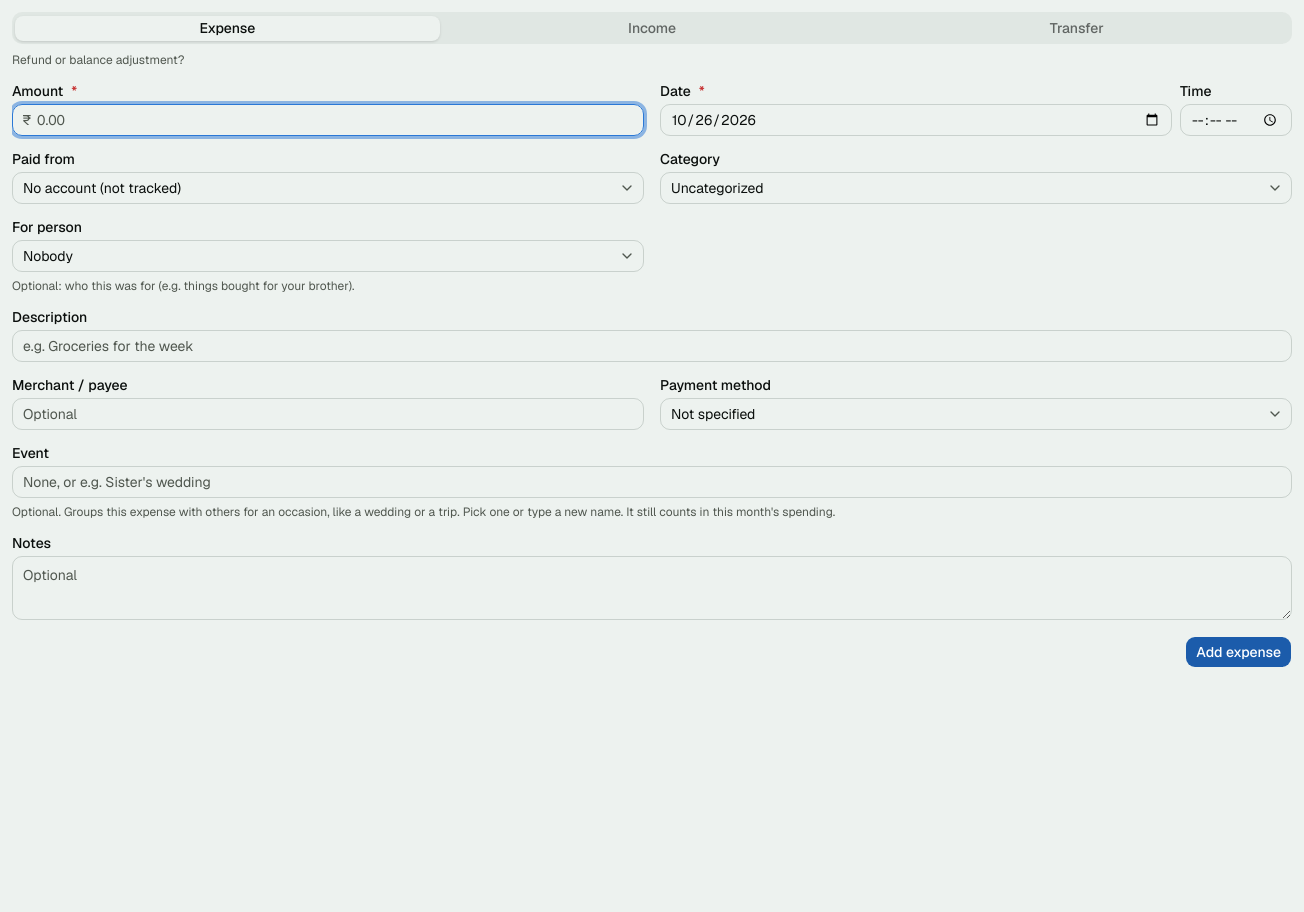
Test: TransactionForm › maps server field errors onto the form
Type "999" into the field labelled "Amount *" at point(328, 120), box [12,104,644,136]
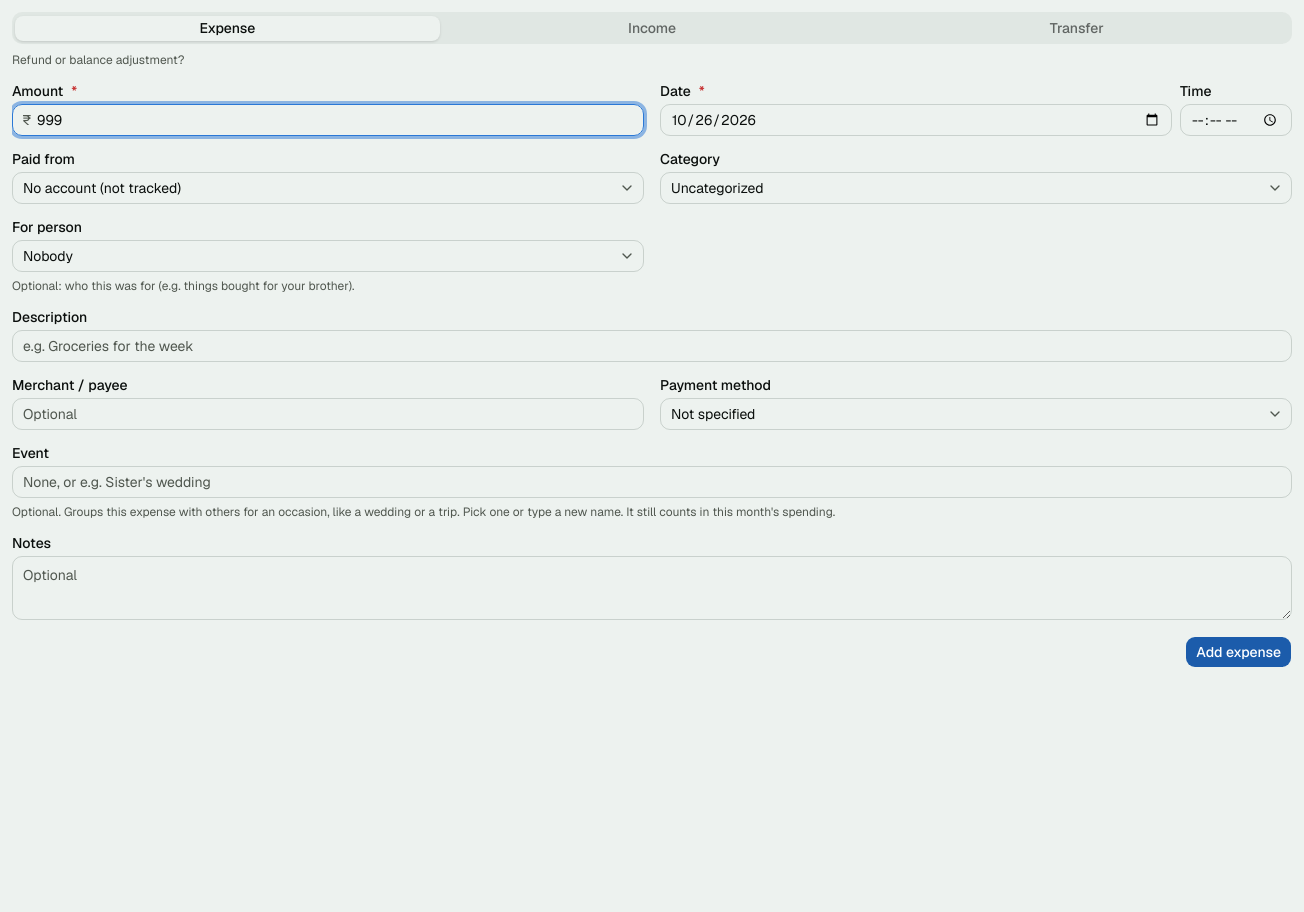
Click the button "Add expense" at point(1239, 652), box [1185,636,1292,668]
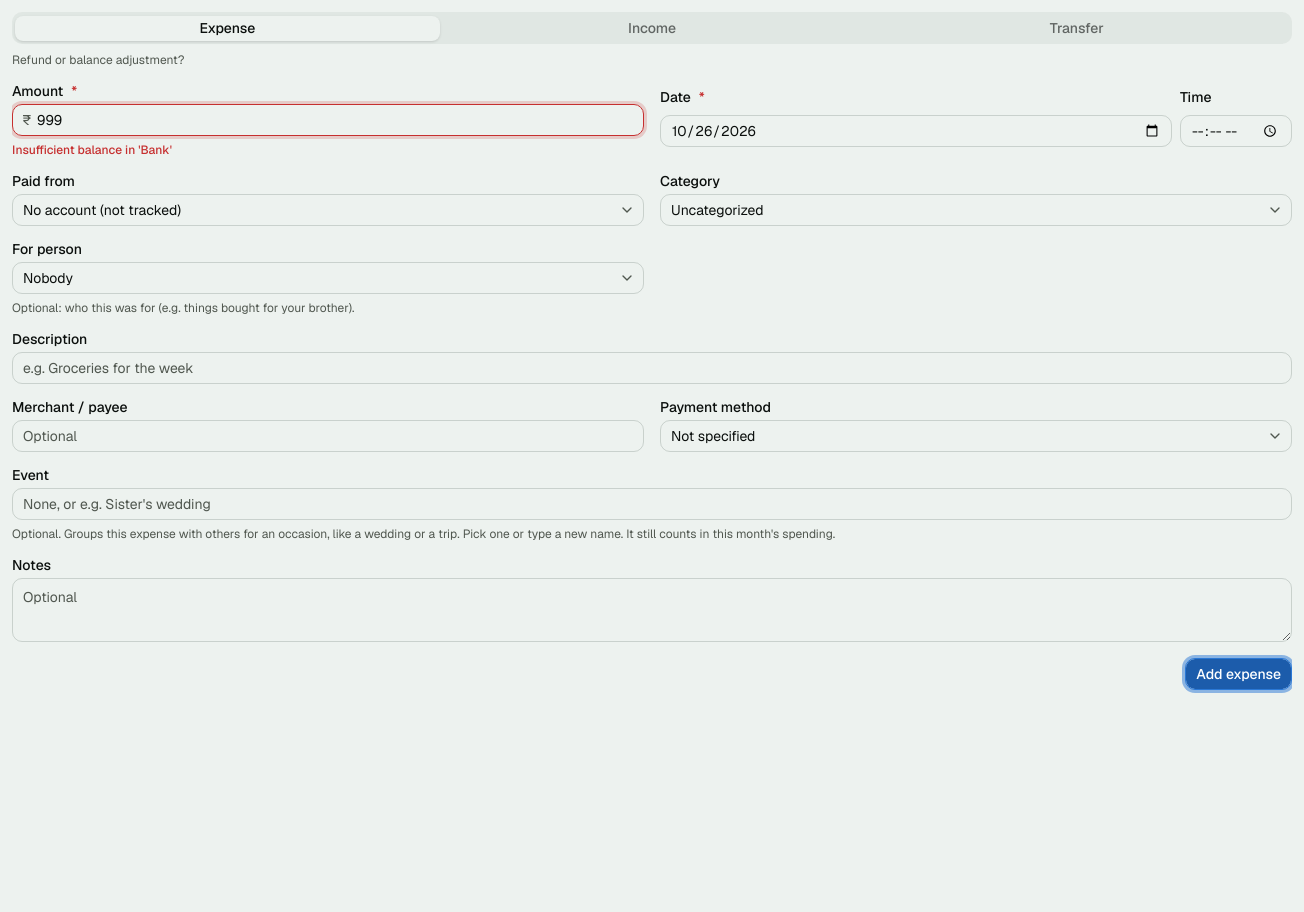
Check: the text "Insufficient balance in 'Bank'" is shown, box [12,142,172,158]
